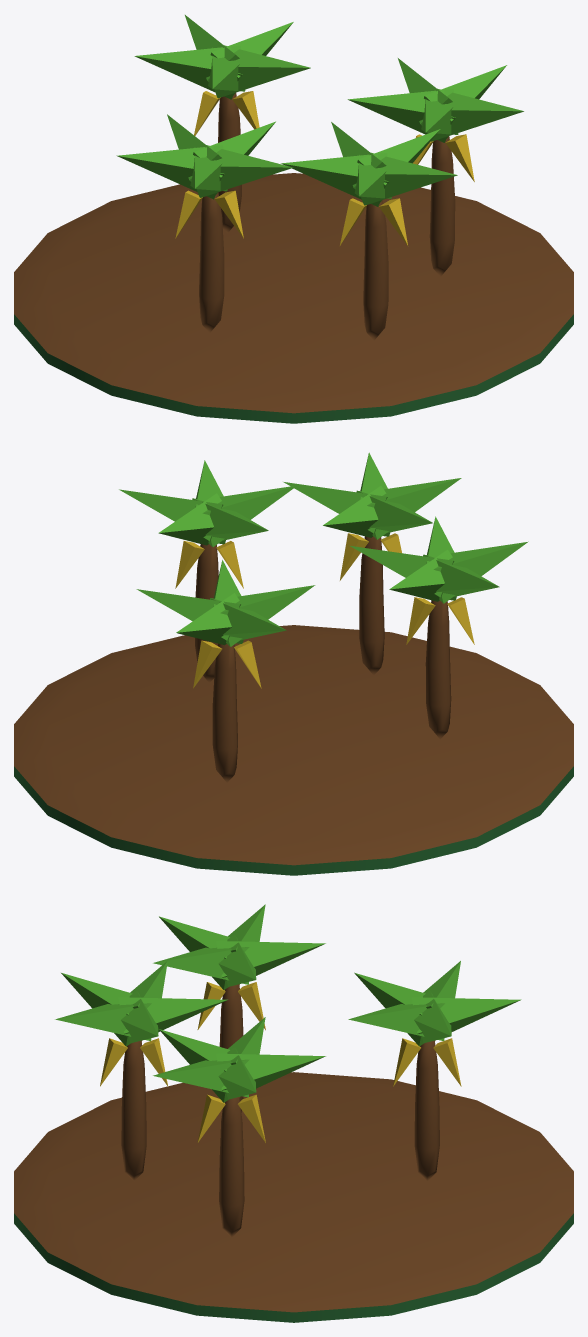
3 views of the same model, one above another, from view 1: azimuth 30°, elevation 25°; view 2: azimuth 150°, elevation 25°; view 3: azimuth 270°, elevation 25° (orthographic).
Parts seen in each view (by area): view 1: fazenda_0_base, fazenda_1_torreta; view 2: fazenda_0_base, fazenda_1_torreta; view 3: fazenda_0_base, fazenda_1_torreta.
Boxes of the visible parts, x1,y1,x2,y2 form: fazenda_0_base: [14, 173, 573, 423]; fazenda_1_torreta: [116, 15, 523, 340]; fazenda_0_base: [14, 625, 573, 875]; fazenda_1_torreta: [119, 452, 528, 782]; fazenda_0_base: [14, 1072, 573, 1322]; fazenda_1_torreta: [55, 904, 521, 1237].
Bounding box in the file's own units: 1.28 × 0.5151 × 1.26.
